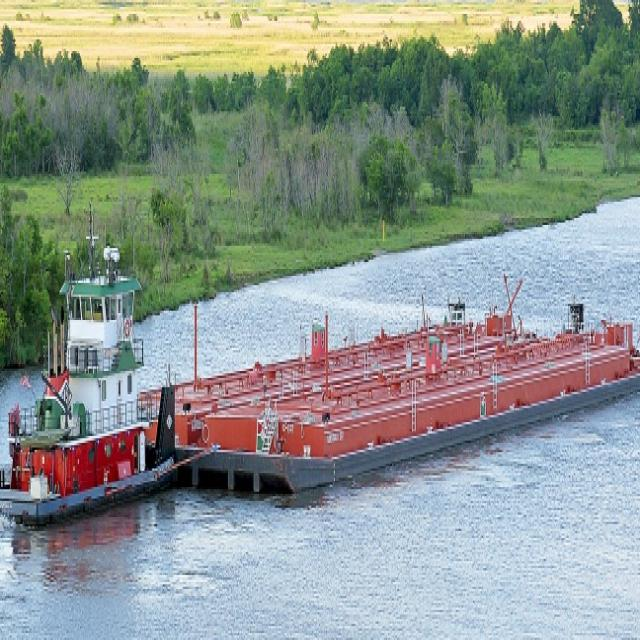tugboat: (1, 201, 194, 544)
